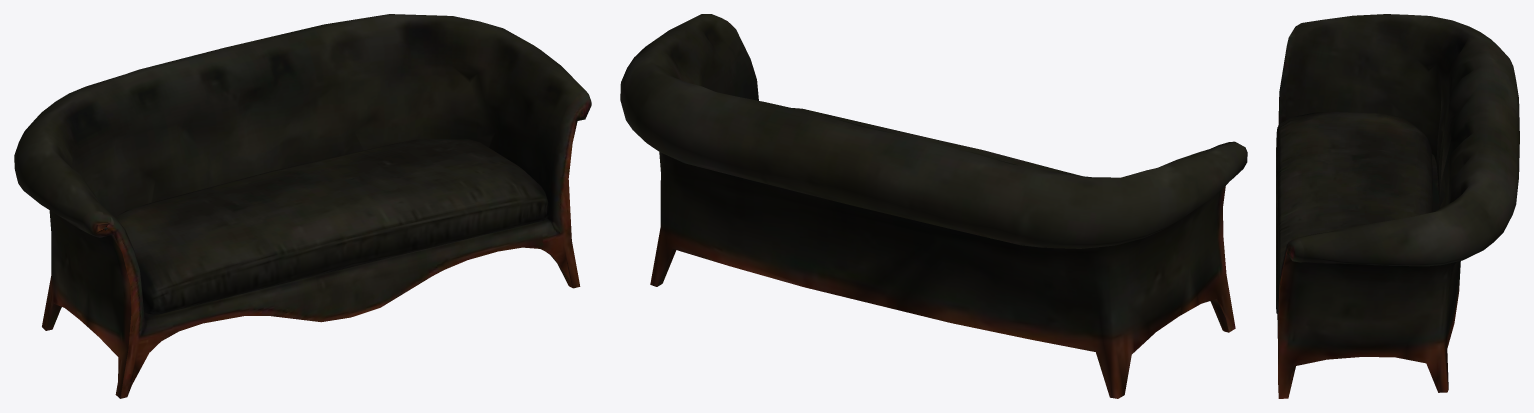
Rendered from sofa_02.glb.
The picture shows the model from 3 angles, left to right: view 1: azimuth 30°, elevation 25°; view 2: azimuth 150°, elevation 25°; view 3: azimuth 270°, elevation 25°; orthographic projection. The views are drawn at different scales.
Parts seen in each view (by area): view 1: sofa_02_Base; view 2: sofa_02_Base; view 3: sofa_02_Base.
Boxes of the visible parts, x1=… form: sofa_02_Base: x1=14, y1=14, x2=591, y2=398; sofa_02_Base: x1=620, y1=14, x2=1247, y2=398; sofa_02_Base: x1=1276, y1=14, x2=1519, y2=398.
Bounding box in the file's own units: 1.81 × 0.7095 × 0.8159.
1 material, 1 textured.
